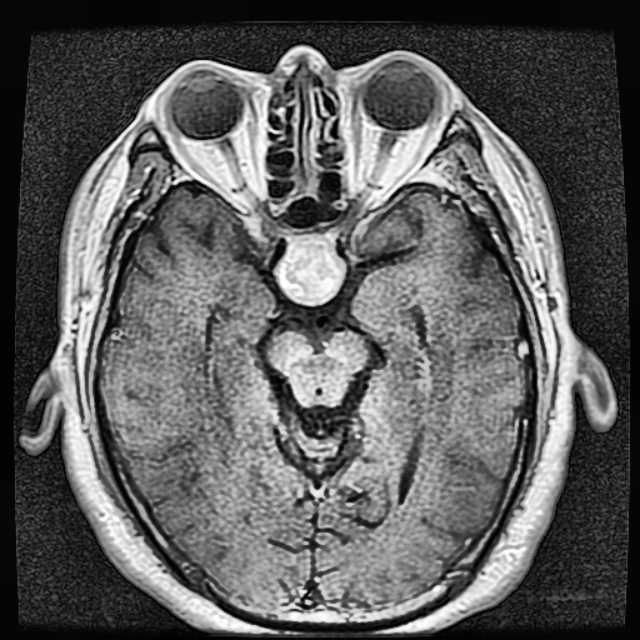Pituitary: (278, 230, 344, 303)
